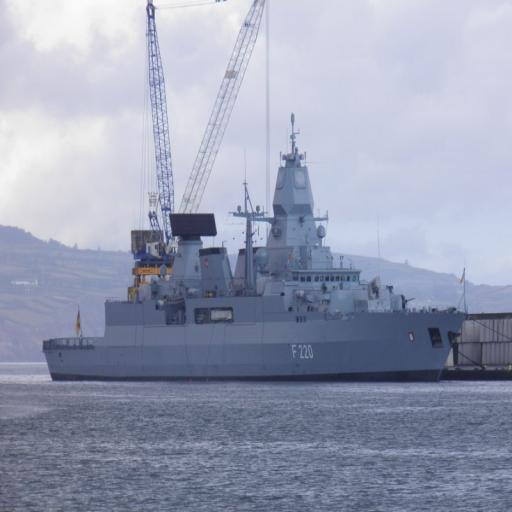Fragata: (43, 106, 470, 389)
